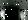person: (1, 7, 8, 20), (21, 10, 28, 20)
